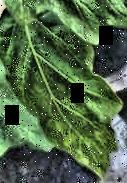HEALTHY: (0, 0, 127, 182)
